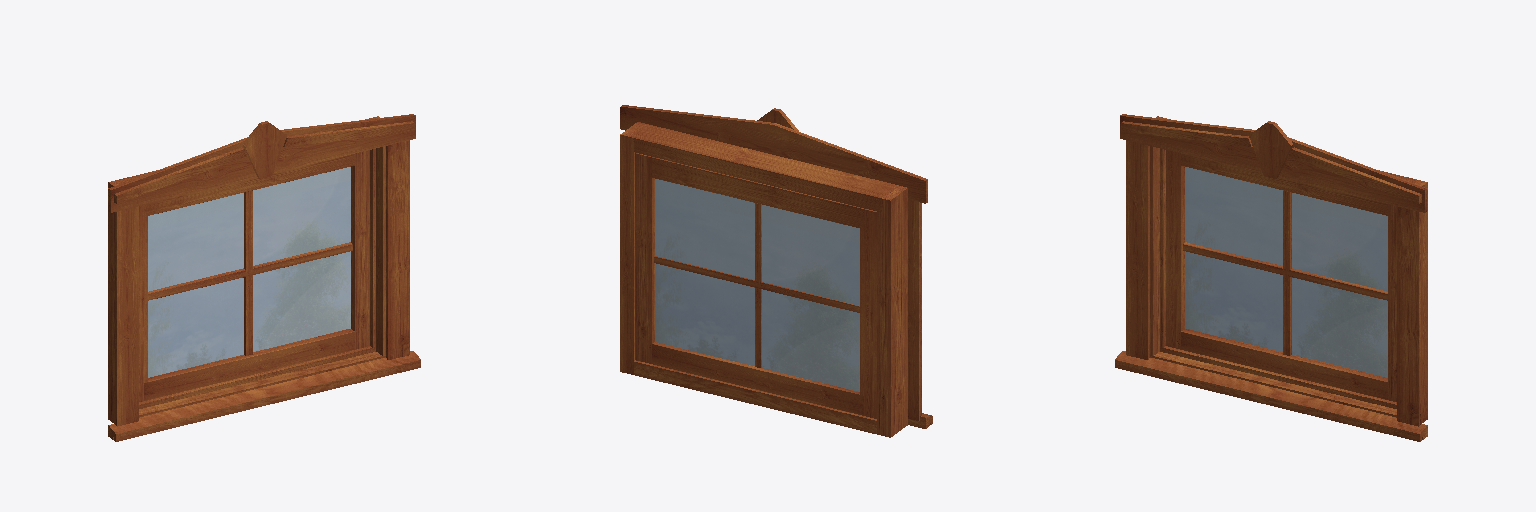
3 views of the same model, side by side, from view 1: azimuth 30°, elevation 25°; view 2: azimuth 150°, elevation 25°; view 3: azimuth 330°, elevation 25° (orthographic).
Parts seen in each view (by area): view 1: glass, sill, trim_top, trim_right, trim_left, window_bottom, window_right, window_top, box_right, muttin_horizontal, window_left, stop_bottom (+6 smaller); view 2: glass, box_top, box_left, trim_top, window_bottom, window_top, window_right, sill, box_right, window_left, trim_left, muttin_horizontal (+1 smaller); view 3: glass, sill, trim_top, trim_right, trim_left, window_bottom, window_left, window_top, box_left, muttin_horizontal, window_right, stop_bottom (+6 smaller).
Part boxes in pixels (x1,y1,x2,y2): glass: (148,167,350,377); sill: (108,351,420,441); trim_top: (108,114,415,212); trim_right: (386,140,409,359); trim_left: (115,206,138,426); window_bottom: (144,329,358,400); window_right: (351,150,369,349); window_top: (144,154,354,216); box_right: (366,116,385,355); muttin_horizontal: (148,242,352,300); window_left: (139,205,147,401); stop_bottom: (139,346,375,408); glass: (655,179,859,391); box_top: (629,124,898,211); box_left: (877,184,907,437); trim_top: (620,105,927,203); window_bottom: (649,342,863,415); window_top: (648,156,863,228); window_right: (635,153,654,363); sill: (634,360,932,433); box_right: (620,122,645,374); window_left: (860,208,876,418); trim_left: (908,200,921,420); muttin_horizontal: (654,256,859,312); glass: (1185,167,1387,377); sill: (1115,351,1427,441); trim_top: (1120,114,1427,212); trim_right: (1397,206,1420,426); trim_left: (1126,140,1149,359); window_bottom: (1177,329,1389,399); window_left: (1166,150,1184,349); window_top: (1181,154,1387,215); box_left: (1150,116,1170,355); muttin_horizontal: (1183,242,1387,300); window_right: (1388,204,1396,401); stop_bottom: (1160,346,1396,408).
Size of the model in its own units: 35 by 30.62 by 5.
7 materials, 7 textured.